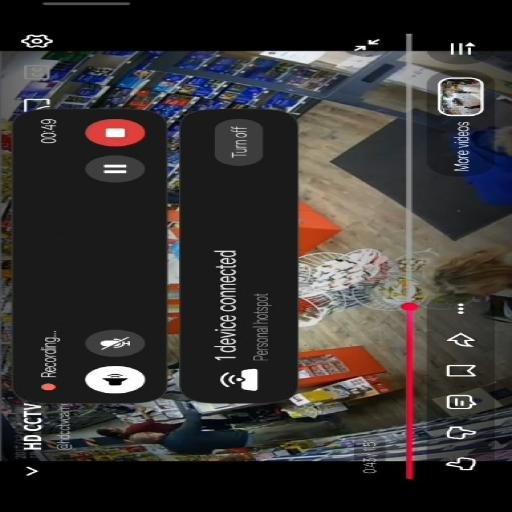workers: (119, 424, 251, 455), (97, 410, 187, 440)
